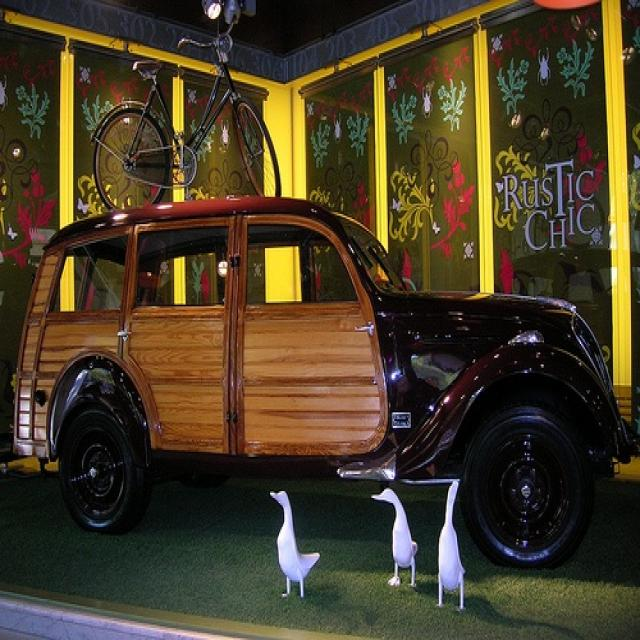bicycle: (90, 12, 280, 210)
car: (12, 200, 634, 573)
